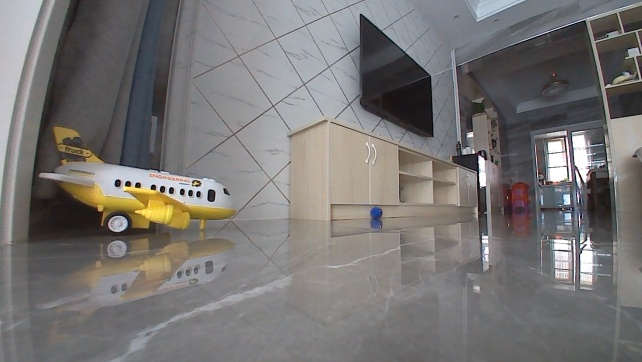TV_stand: (280, 115, 480, 224)
plastic_toy: (36, 122, 237, 238), (369, 205, 384, 220)
